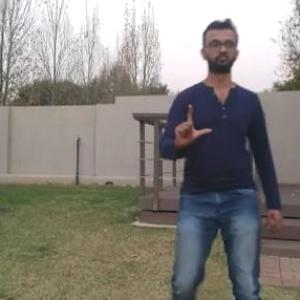land_hand: (169, 100, 218, 155)
